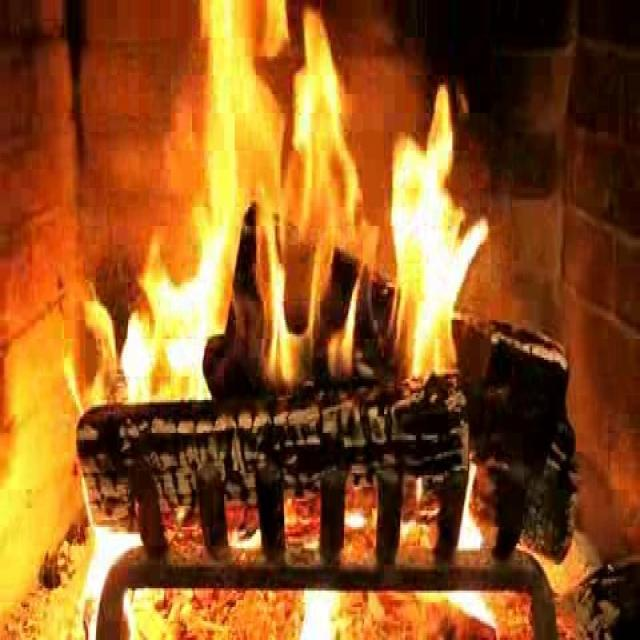Fire: (12, 0, 639, 393)
